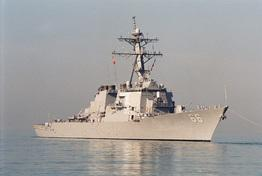warship: (33, 12, 234, 140)
